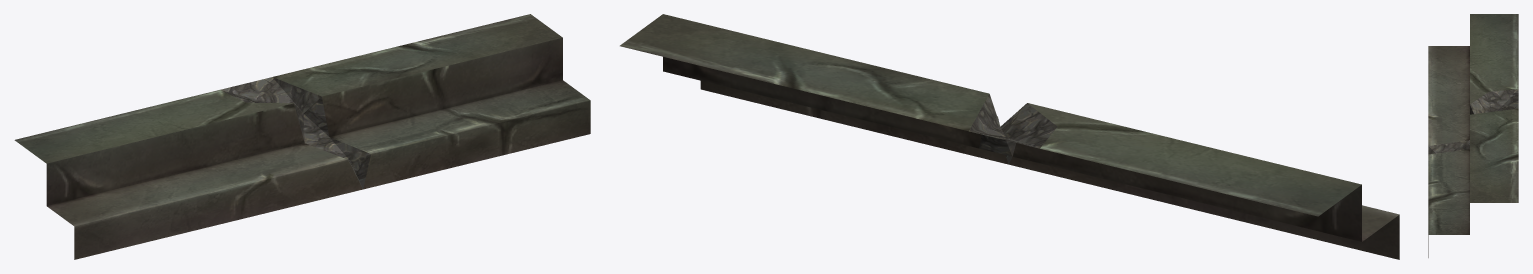
The model's file is F_louti001.fbx.
The picture shows the model from 3 angles, left to right: view 1: azimuth 30°, elevation 25°; view 2: azimuth 150°, elevation 25°; view 3: azimuth 270°, elevation 25°; orthographic projection. The views are drawn at different scales.
Visible parts, largest first — view 1: F_louti001; view 2: F_louti001; view 3: F_louti001.
Boxes of the visible parts, x1,y1,x2,y2 form: F_louti001: (14,14,590,259); F_louti001: (620,14,1399,259); F_louti001: (1428,14,1518,257).
Size of the model in its own units: 400 by 56.33 by 80.85.
